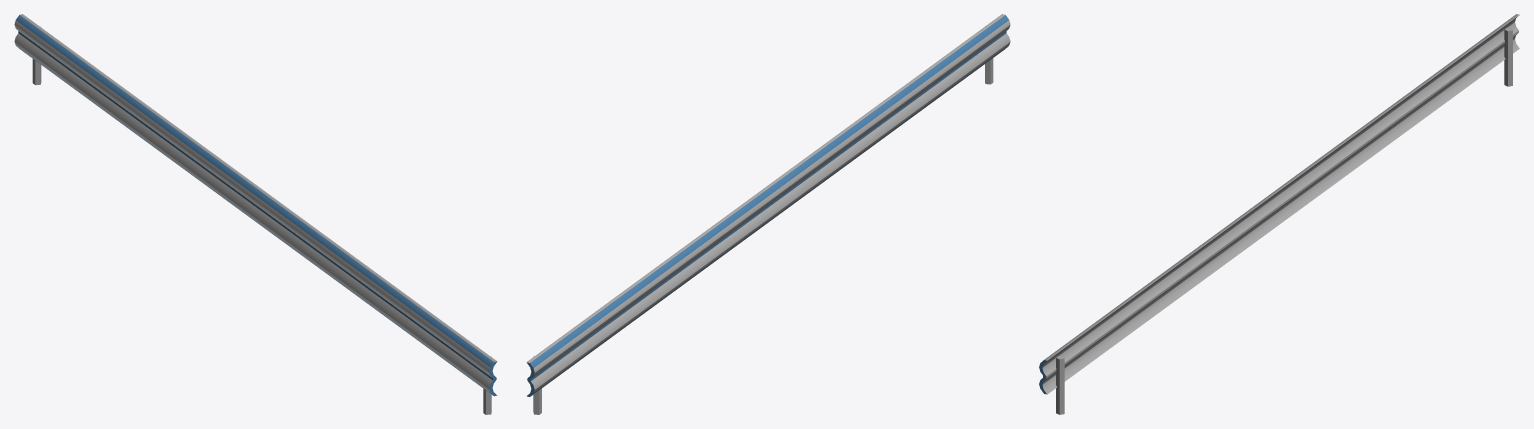
File: Prop_RoadBarrier_Unwrapped.fbx
3 renders of one model, left to right at view 1: azimuth 30°, elevation 25°; view 2: azimuth 150°, elevation 25°; view 3: azimuth 330°, elevation 25°, orthographic.
Visible parts, largest first — view 1: Prop_RoadBarrier_Unwrapped; view 2: Prop_RoadBarrier_Unwrapped; view 3: Prop_RoadBarrier_Unwrapped.
Boxes of the visible parts, x1=… form: Prop_RoadBarrier_Unwrapped: x1=14, y1=14, x2=497, y2=414; Prop_RoadBarrier_Unwrapped: x1=526, y1=14, x2=1010, y2=414; Prop_RoadBarrier_Unwrapped: x1=1039, y1=14, x2=1519, y2=414.
Bounding box in the file's own units: 32.44 × 133 × 1894.
